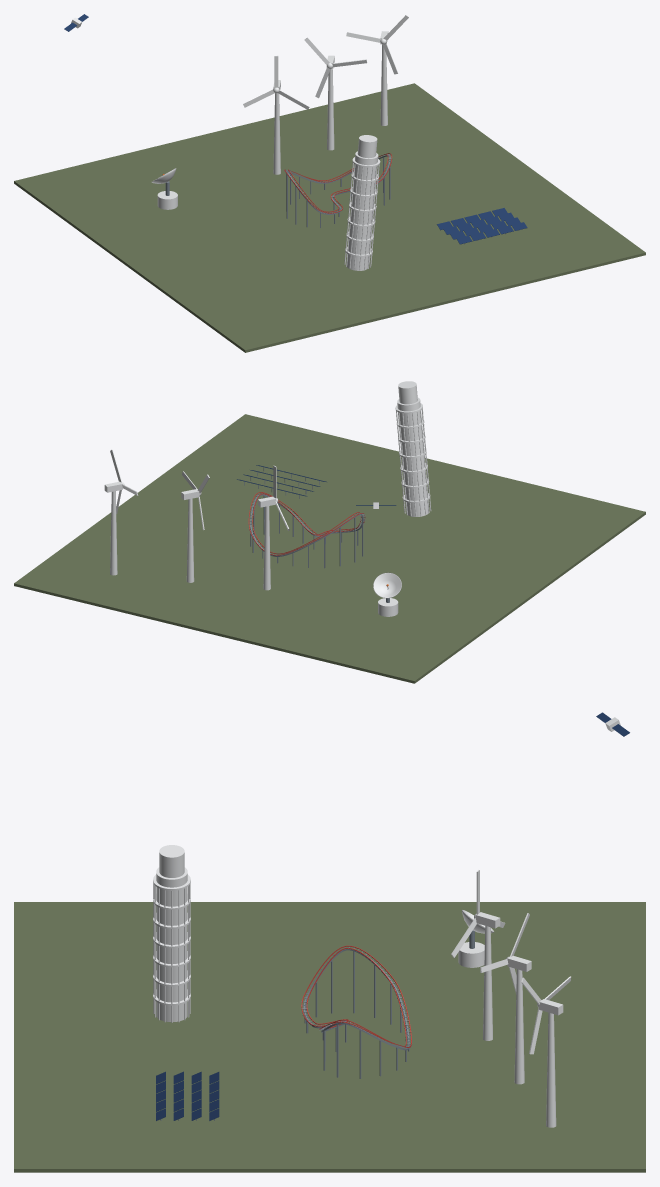
The model's file is rotation.L0.glb.
3 views of the same model, one above another, from view 1: azimuth 30°, elevation 25°; view 2: azimuth 150°, elevation 25°; view 3: azimuth 270°, elevation 25° (orthographic). The views are drawn at different scales.
Parts seen in each view (by area): view 1: ground, pisa.core, farm.0.t.tower, farm.1.t.tower, farm.2.t.tower; view 2: ground, pisa.core, radar.dish, farm.0.t.tower, farm.2.t.tower, farm.1.t.tower, coaster.spine; view 3: ground, pisa.core, farm.1.t.tower, farm.2.t.tower, farm.0.t.tower, pisa.belfry, coaster.spine.
Boxes of the visible parts, x1,y1,x2,y2 form: ground: (14, 83, 645, 352); pisa.core: (347, 151, 378, 270); farm.0.t.tower: (273, 93, 280, 174); farm.1.t.tower: (327, 68, 334, 150); farm.2.t.tower: (380, 44, 387, 125); ground: (14, 414, 645, 683); pisa.core: (397, 397, 428, 516); radar.dish: (373, 572, 401, 598); farm.0.t.tower: (263, 506, 270, 590); farm.2.t.tower: (110, 491, 117, 575); farm.1.t.tower: (186, 498, 194, 582); coaster.spine: (250, 494, 363, 556); ground: (14, 902, 645, 1172); pisa.core: (156, 867, 187, 1021); farm.1.t.tower: (514, 969, 524, 1084); farm.2.t.tower: (546, 1012, 556, 1127); farm.0.t.tower: (483, 926, 492, 1040); pisa.belfry: (159, 845, 184, 877); coaster.spine: (303, 949, 409, 1050).
Size of the model in its own units: 160 by 61.39 by 160.
